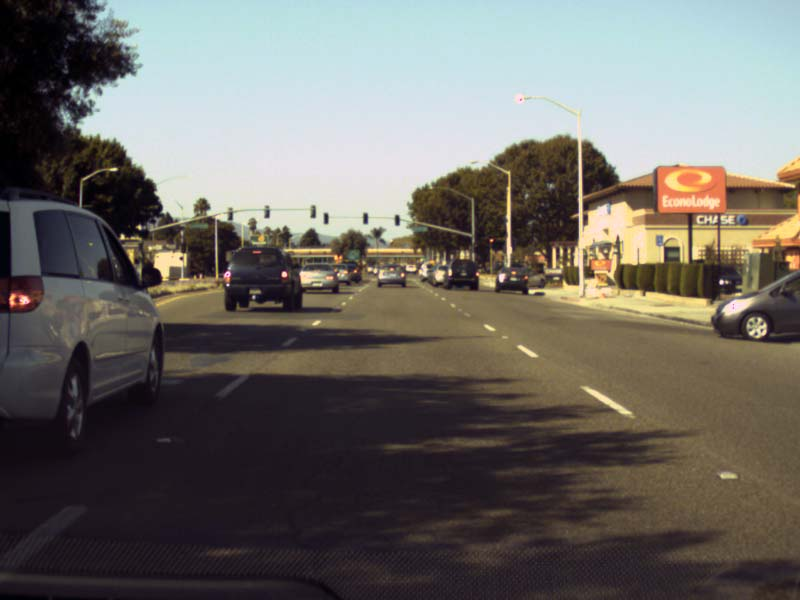Red: (488, 237, 493, 248)
